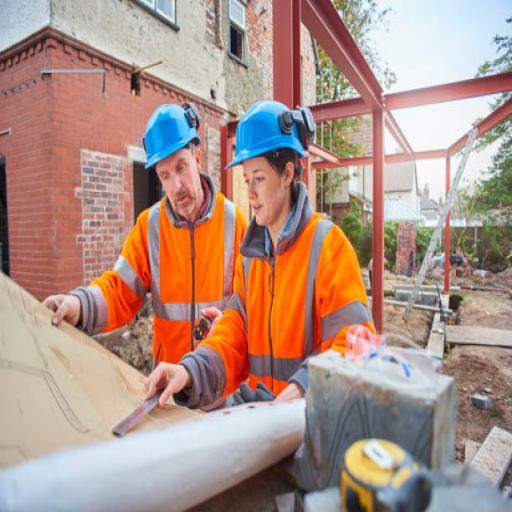No Gloves: (135, 347, 202, 410), (37, 279, 98, 339)
helmet: (223, 93, 320, 190), (127, 96, 215, 176)
jacket: (180, 173, 382, 457), (69, 162, 250, 396)
nosafety glasses: (234, 160, 306, 204), (146, 144, 208, 192)
